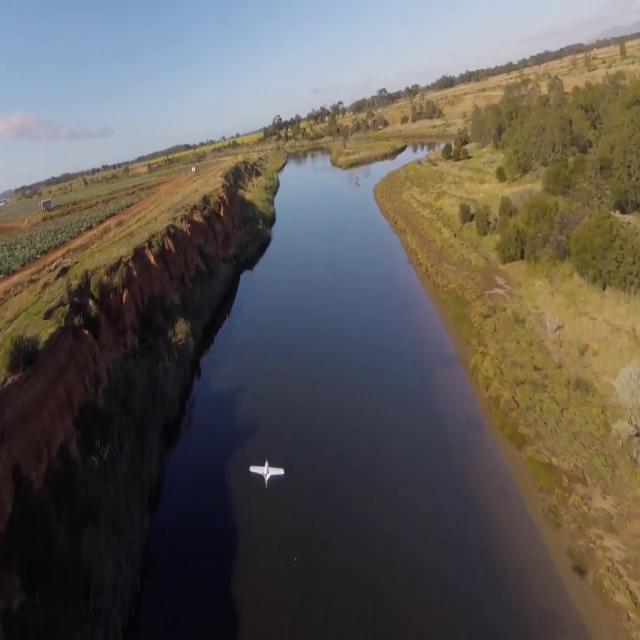iha: (241, 461, 281, 484)
